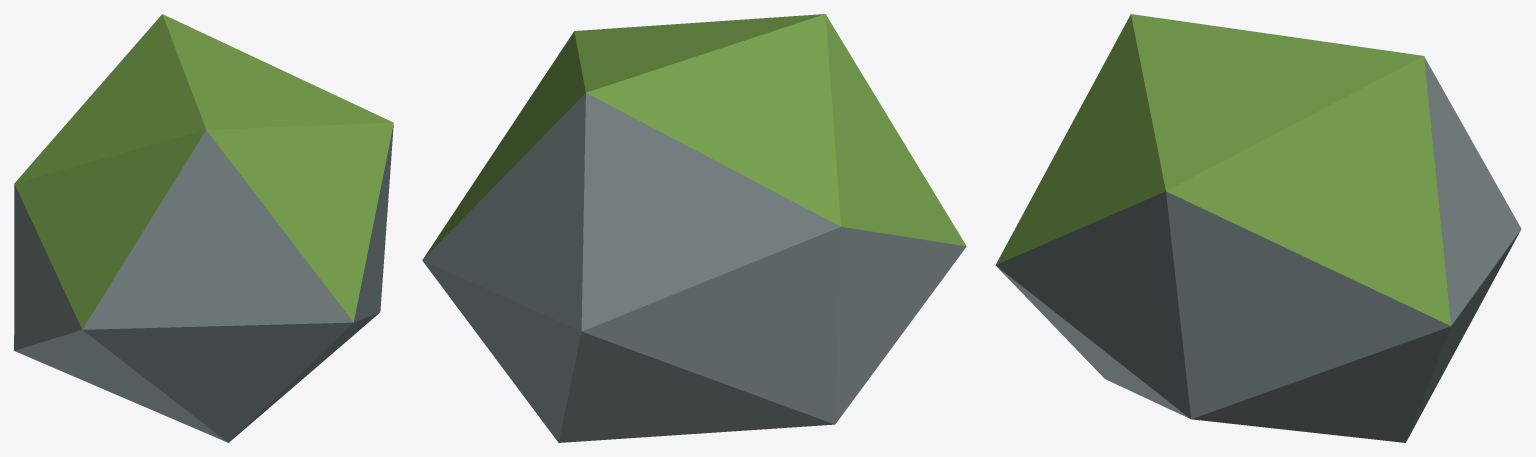
The model's file is world_boulder_mossy_s.obj.
The picture shows the model from 3 angles, left to right: view 1: azimuth 30°, elevation 25°; view 2: azimuth 150°, elevation 25°; view 3: azimuth 270°, elevation 25°; orthographic projection. The views are drawn at different scales.
Parts seen in each view (by area): view 1: world_boulder_mossy_s; view 2: world_boulder_mossy_s; view 3: world_boulder_mossy_s.
Boxes of the visible parts, <box> form: world_boulder_mossy_s: <box>14,14,393,442</box>; world_boulder_mossy_s: <box>422,14,966,442</box>; world_boulder_mossy_s: <box>995,14,1521,442</box>.
Bounding box in the file's own units: 2.29 × 2.07 × 2.67.
